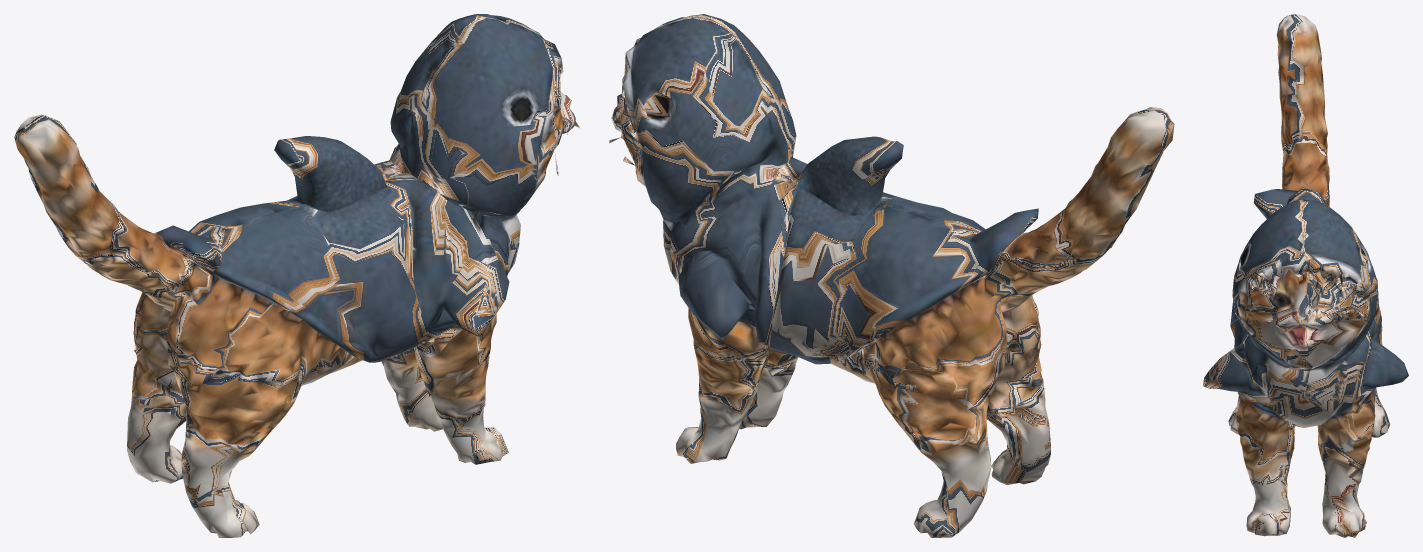
File: SAMENYAN-lo.glb
The picture shows the model from 3 angles, left to right: view 1: azimuth 30°, elevation 25°; view 2: azimuth 150°, elevation 25°; view 3: azimuth 270°, elevation 25°; orthographic projection. The views are drawn at different scales.
Visible parts, largest first — view 1: tripo_node_b870f6d2-941d-435a-a956-18df1b6ae715; view 2: tripo_node_b870f6d2-941d-435a-a956-18df1b6ae715; view 3: tripo_node_b870f6d2-941d-435a-a956-18df1b6ae715.
Boxes of the visible parts, box(x1,y1,x2,y2) form: tripo_node_b870f6d2-941d-435a-a956-18df1b6ae715: box(14, 14, 580, 537); tripo_node_b870f6d2-941d-435a-a956-18df1b6ae715: box(609, 14, 1174, 537); tripo_node_b870f6d2-941d-435a-a956-18df1b6ae715: box(1203, 14, 1408, 537).
Bounding box in the file's own units: 1.34 × 0.999 × 0.5325.
Materials: 1 (1 with a texture image).
